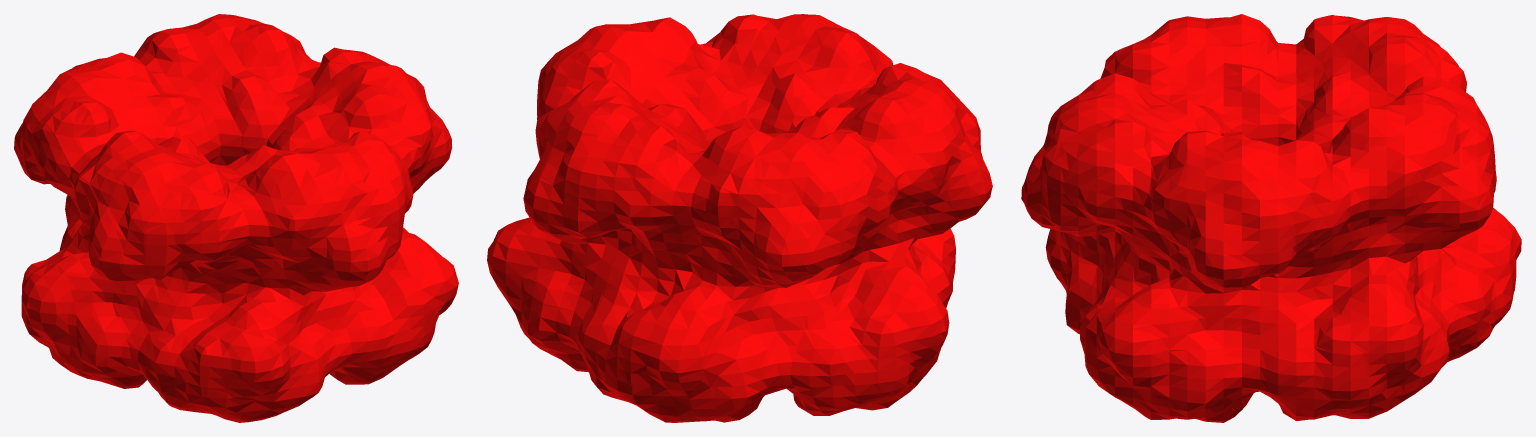
File: fsaA_coarse.dae
The picture shows the model from 3 angles, left to right: view 1: azimuth 30°, elevation 25°; view 2: azimuth 150°, elevation 25°; view 3: azimuth 270°, elevation 25°; orthographic projection. The views are drawn at different scales.
Visible parts, largest first — view 1: fsaA; view 2: fsaA; view 3: fsaA.
Part boxes in pixels (left/top/right/bottom): fsaA: left=14, top=14, right=458, bottom=422; fsaA: left=487, top=14, right=992, bottom=422; fsaA: left=1021, top=14, right=1521, bottom=422.
Size of the model in its own units: 112 by 75.76 by 113.
